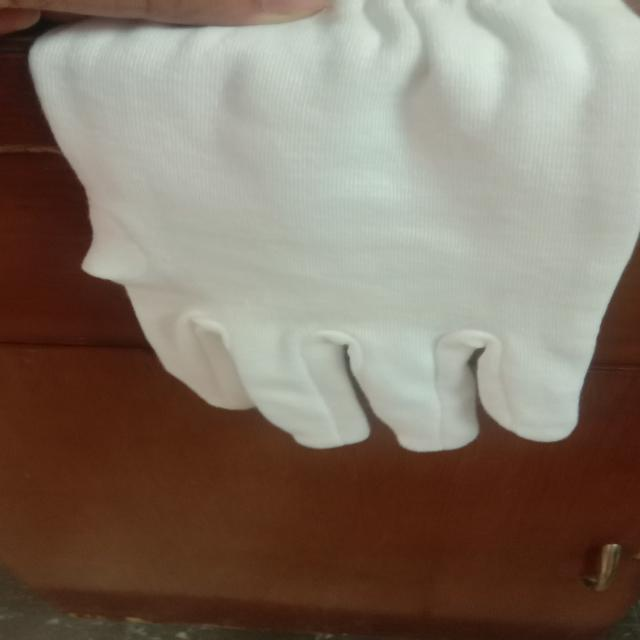glove_hand: (21, 1, 640, 454)
